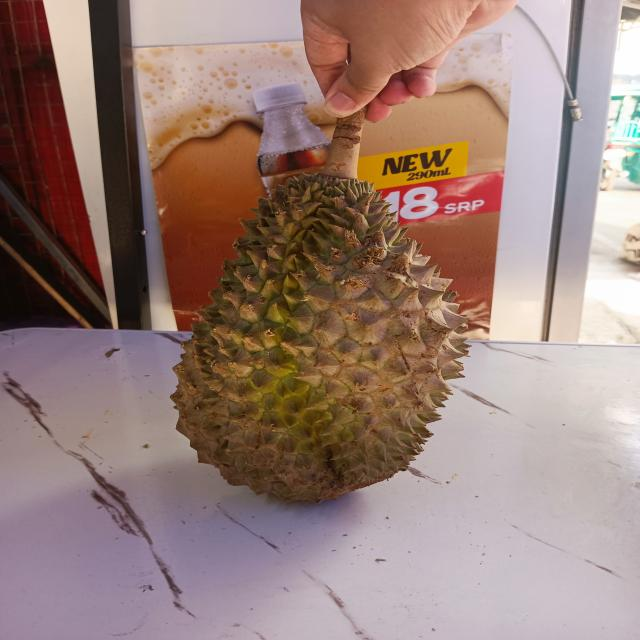mature: (172, 174, 469, 503)
